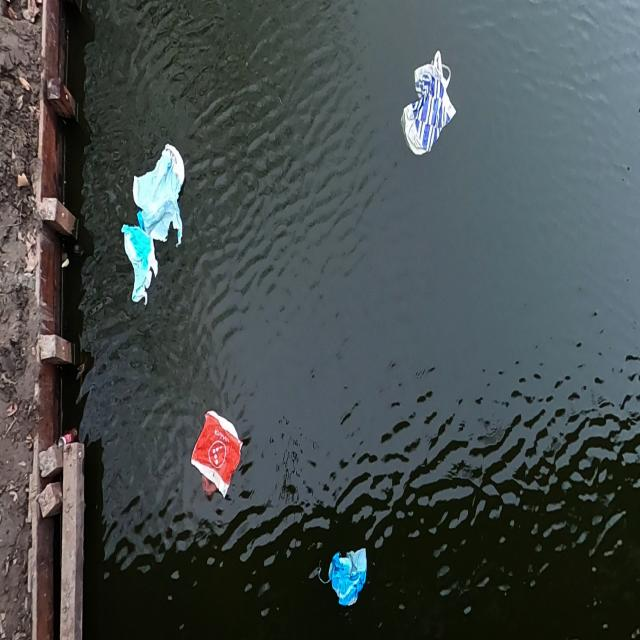Sac plastique: (123, 126, 198, 269), (396, 42, 462, 171), (186, 405, 248, 506), (111, 208, 161, 315), (316, 536, 374, 622)
